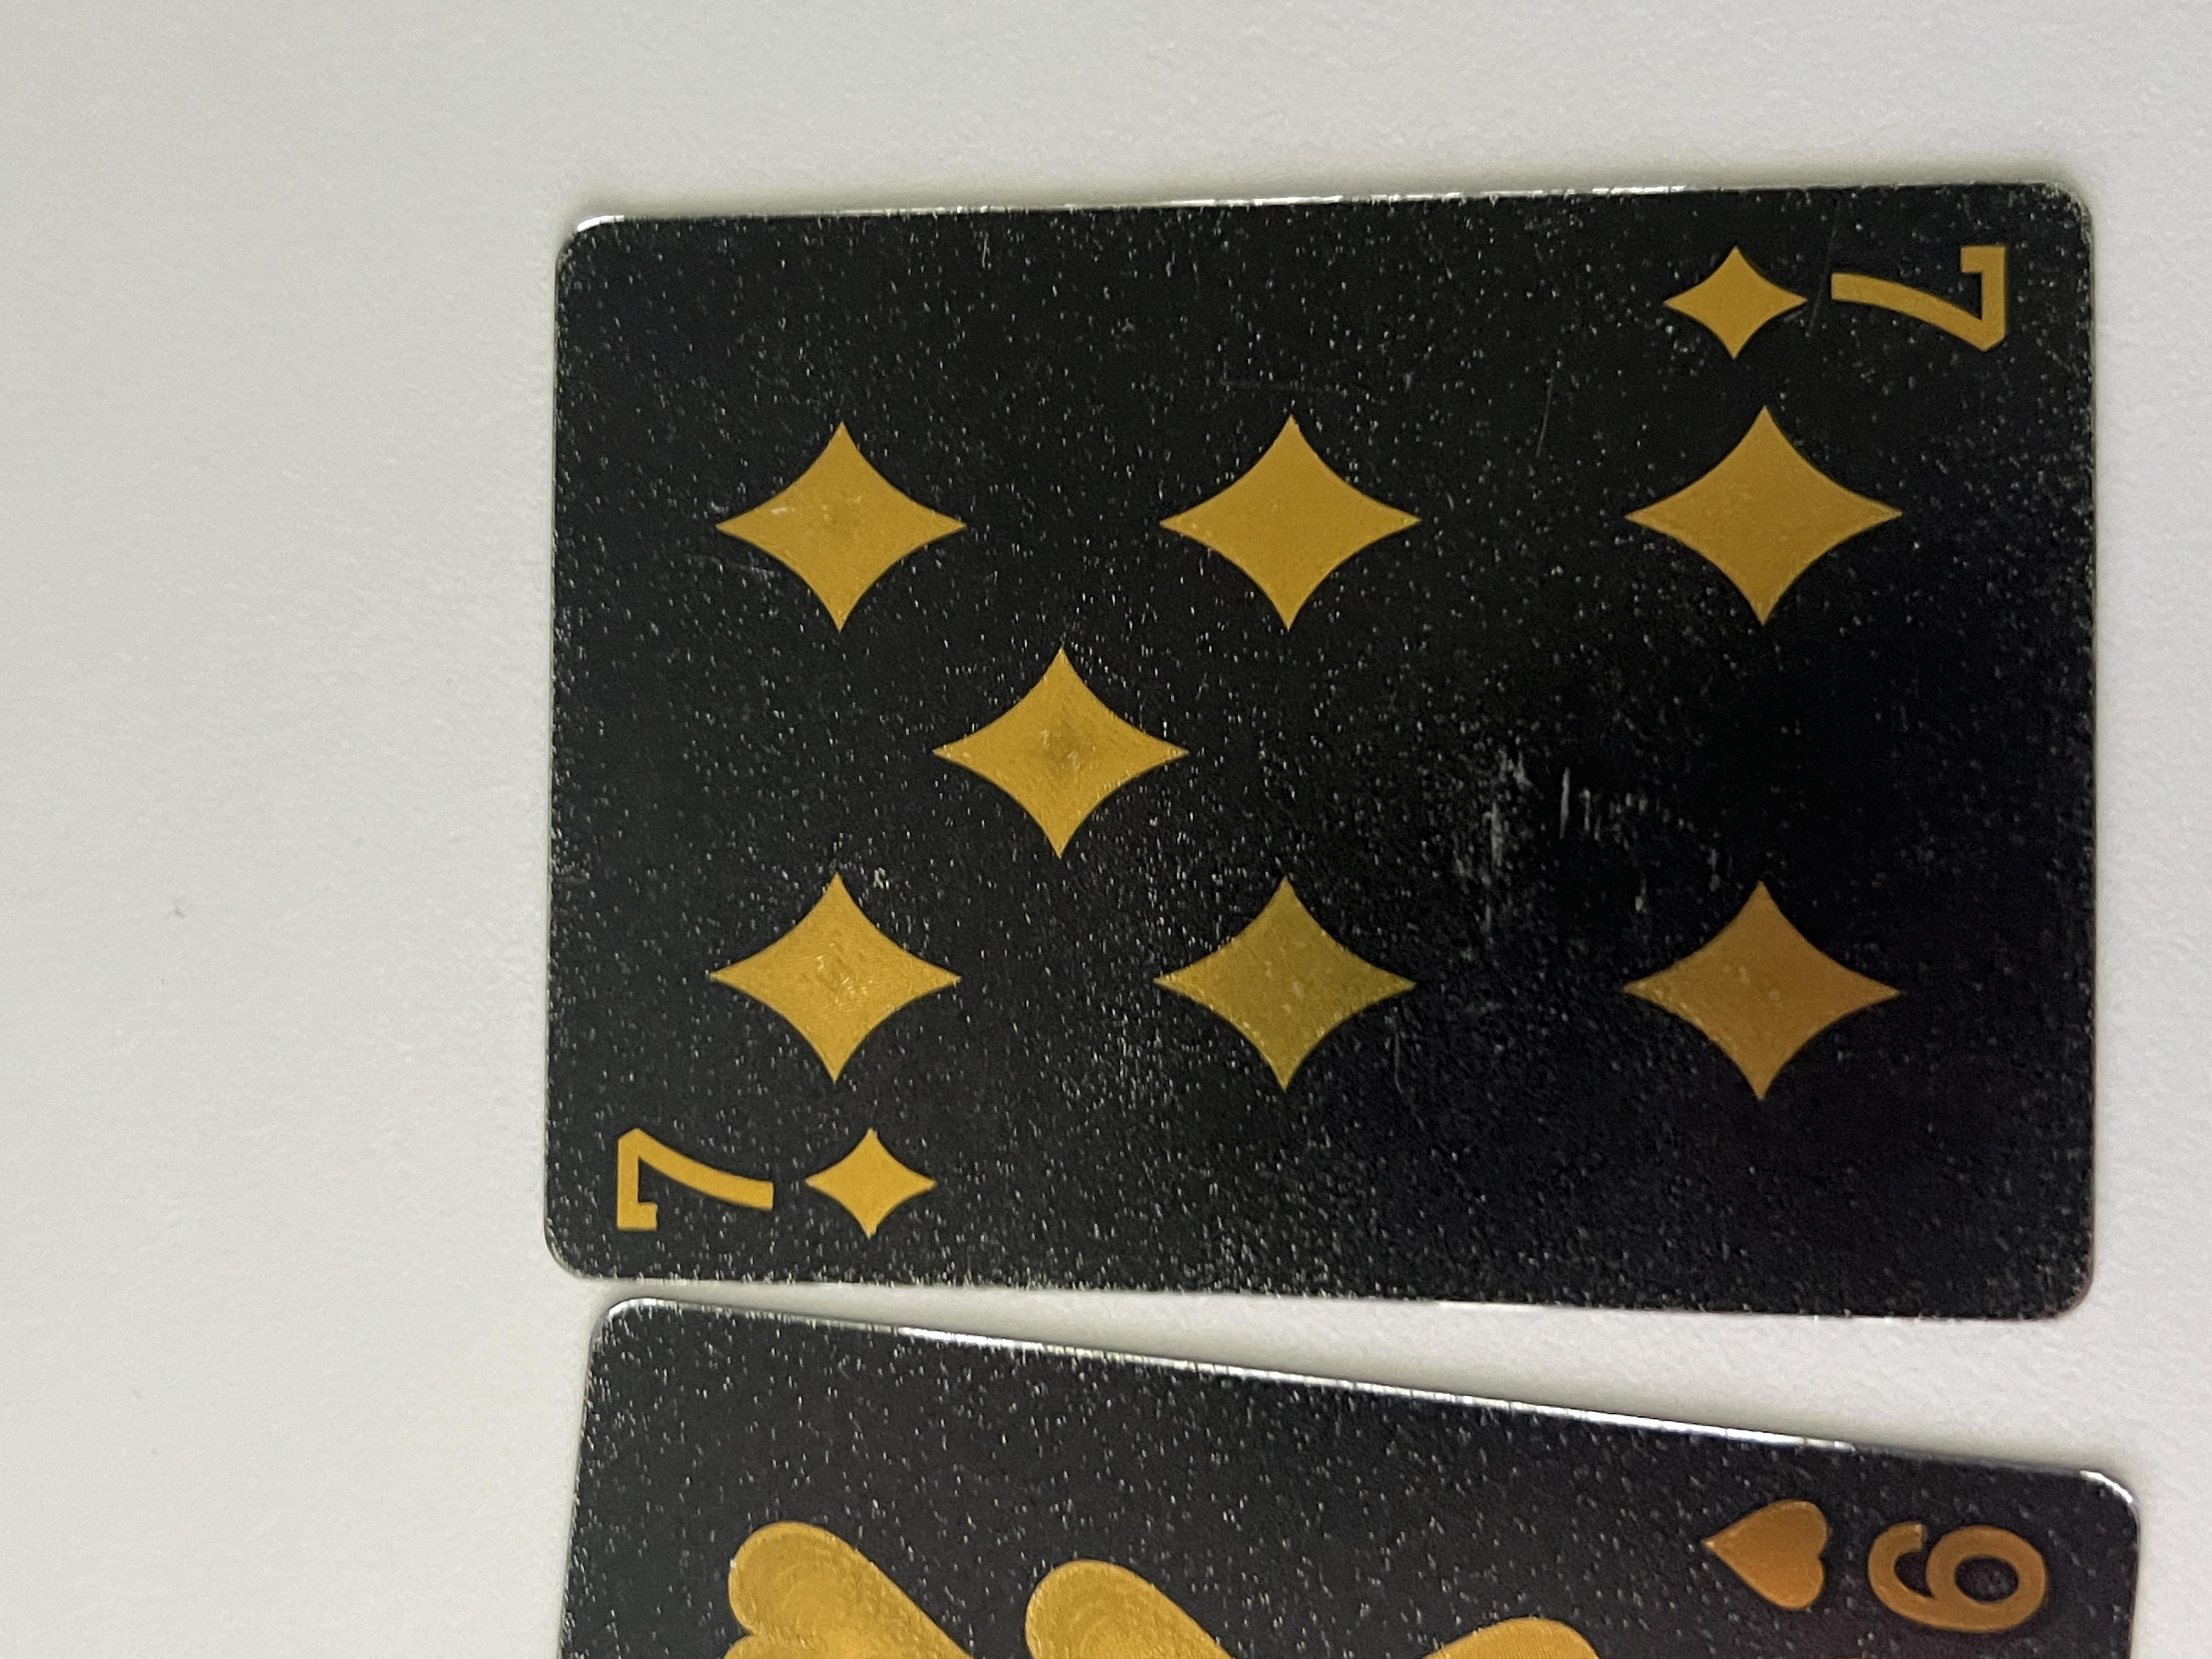7D: (1712, 1229, 1928, 1518), (529, 441, 749, 704)
9H: (30, 1263, 230, 1539)
